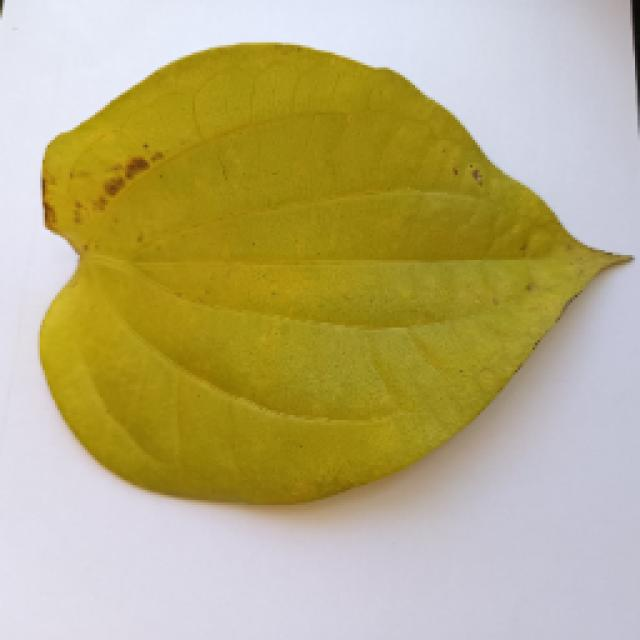slow-decline: (35, 40, 633, 505)
